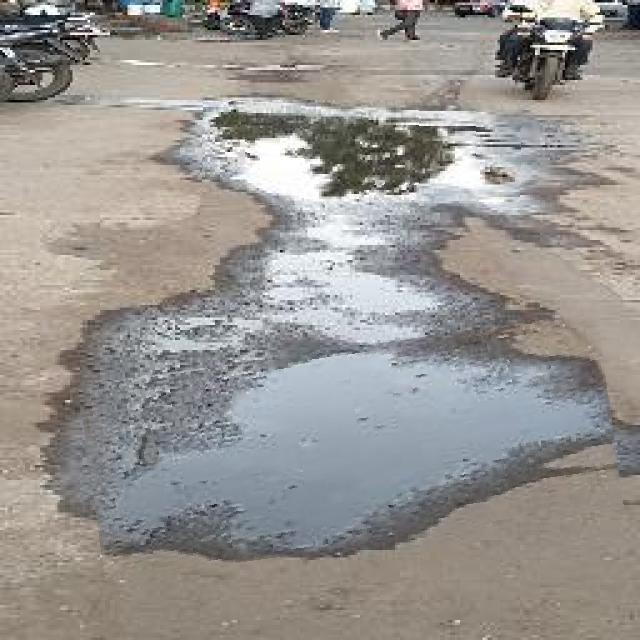puddle: (85, 331, 620, 565), (203, 104, 522, 209)
